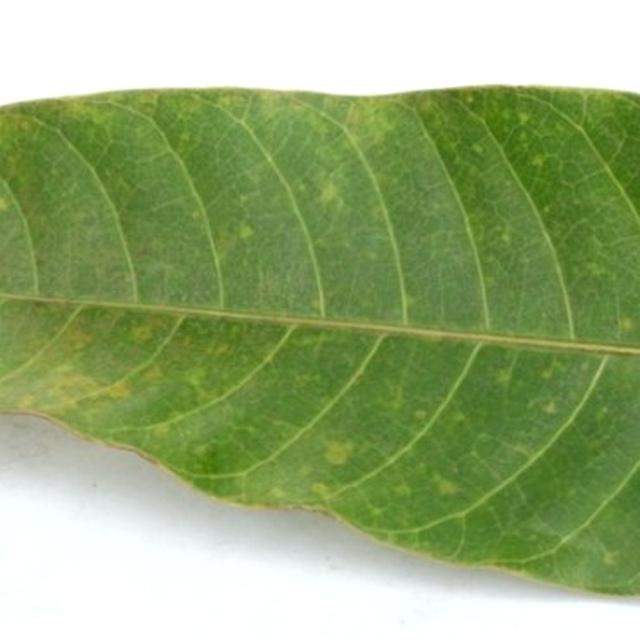Mango: (0, 88, 639, 589)
Powdery_Mildew: (323, 435, 360, 474), (64, 326, 93, 350), (318, 180, 342, 206), (131, 323, 158, 343), (344, 105, 365, 128), (106, 382, 132, 400), (434, 477, 458, 496), (184, 369, 208, 388), (142, 364, 164, 383), (29, 298, 57, 312), (15, 393, 38, 410), (150, 421, 174, 437), (190, 456, 211, 474), (297, 333, 323, 347), (385, 384, 404, 403), (586, 261, 605, 278), (392, 482, 412, 498), (495, 368, 513, 385), (267, 485, 287, 500), (216, 95, 237, 109), (619, 316, 636, 333), (602, 550, 621, 565), (192, 443, 211, 458), (512, 443, 533, 456), (296, 464, 314, 479), (211, 342, 230, 356), (238, 224, 254, 240), (541, 400, 558, 414), (541, 365, 557, 379), (451, 412, 467, 425), (517, 111, 531, 125), (311, 298, 325, 311), (531, 155, 545, 168), (470, 142, 484, 155), (404, 294, 418, 307), (19, 119, 32, 132), (596, 407, 609, 420), (414, 409, 428, 421), (364, 250, 378, 262), (0, 196, 10, 211), (499, 231, 511, 243), (179, 132, 191, 144), (191, 210, 203, 221), (296, 184, 306, 194), (464, 95, 474, 104)
